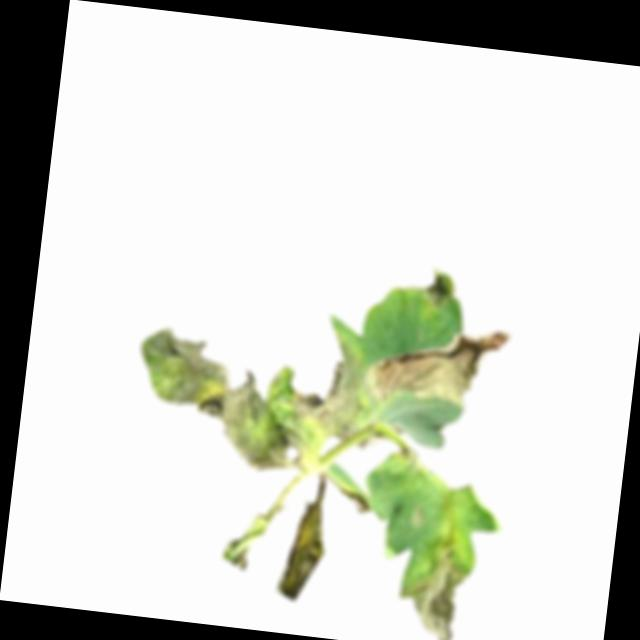Late_blight: (129, 322, 333, 473), (362, 309, 513, 417), (291, 326, 369, 449), (394, 539, 469, 640), (277, 498, 328, 596), (417, 265, 459, 320), (395, 445, 428, 475), (407, 507, 428, 529)
